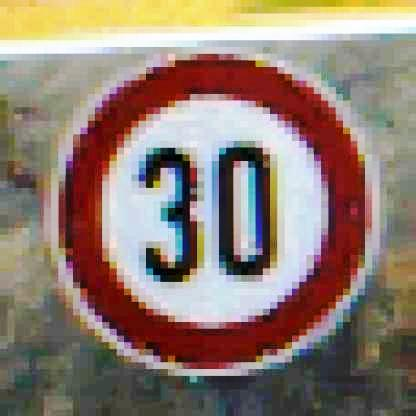Speed Limit -30-: (48, 47, 380, 377)
